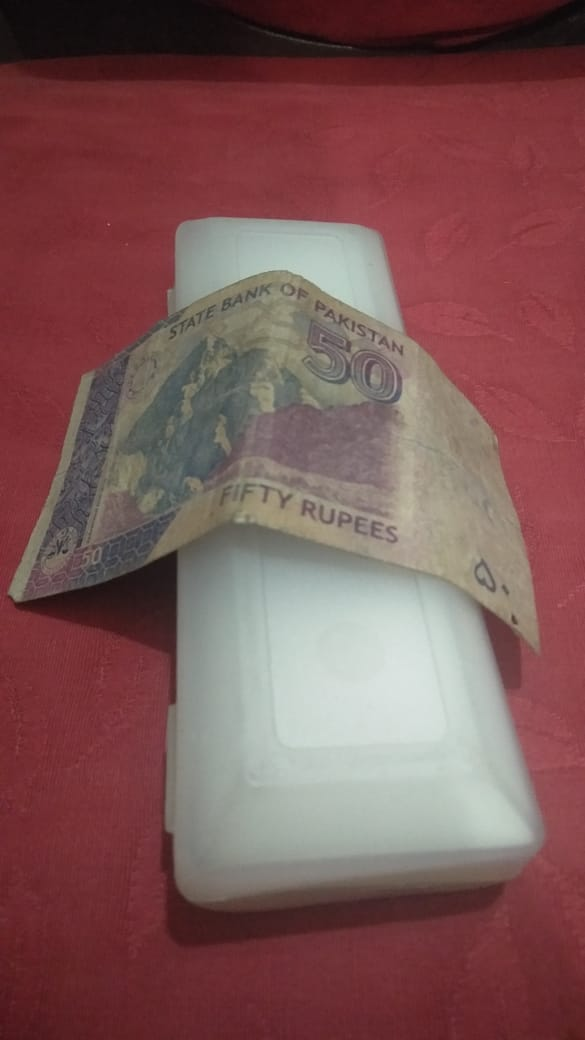50 rupee: (29, 274, 538, 639)
